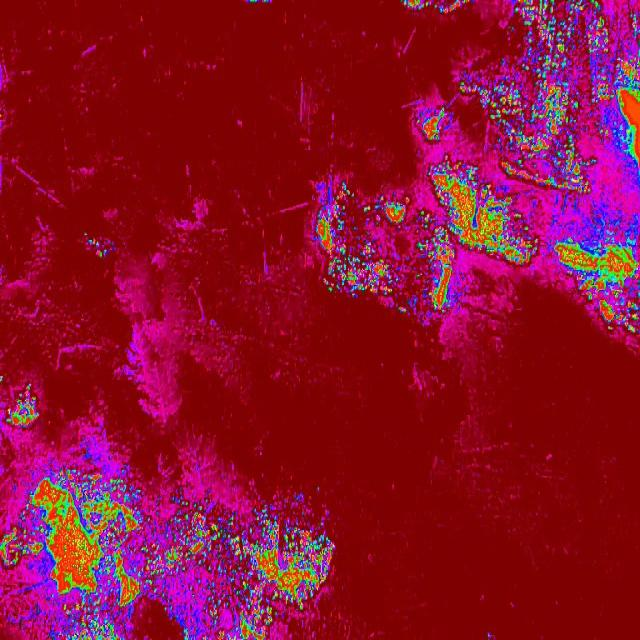fire: (0, 459, 334, 640), (322, 165, 640, 335), (409, 55, 640, 165), (501, 0, 640, 55), (6, 383, 43, 432), (395, 0, 472, 20)
